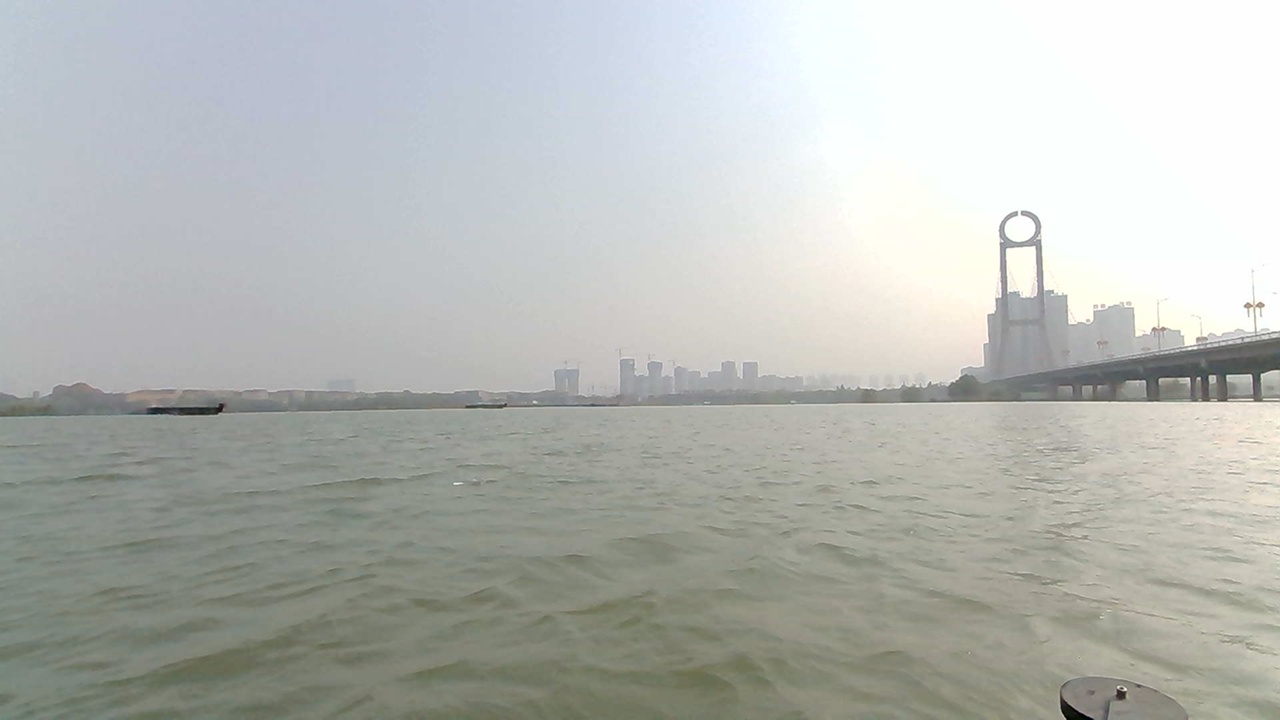bottle: (454, 471, 499, 495)
